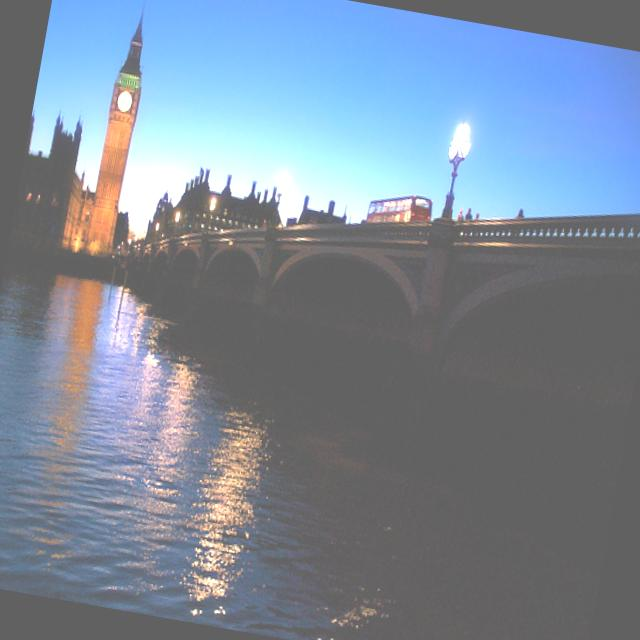Vehicle: (366, 188, 434, 232)
